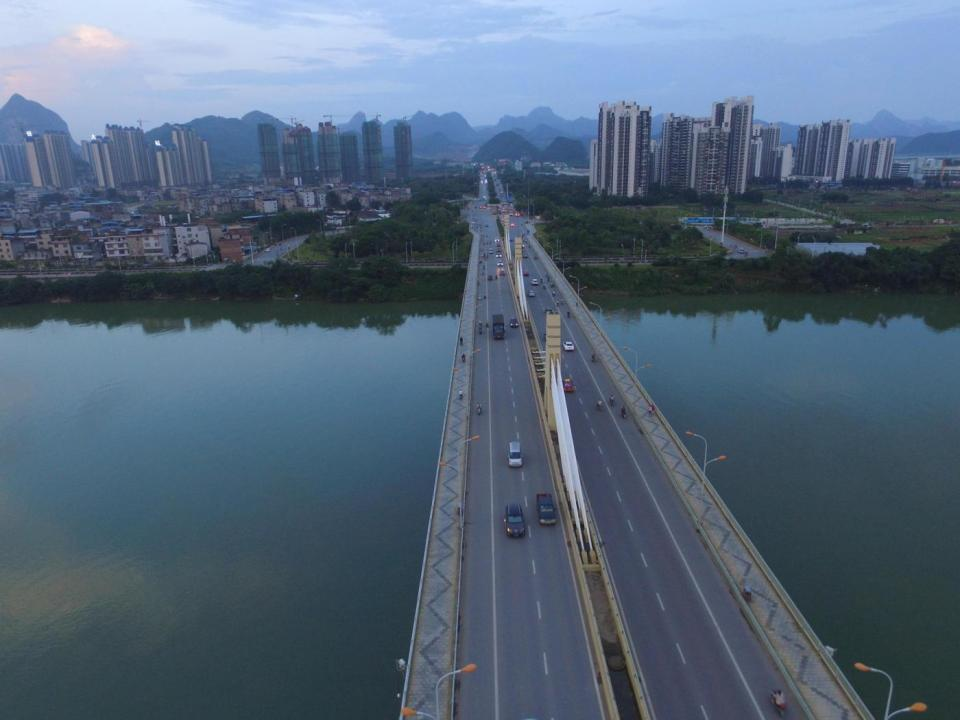car: (504, 503, 527, 539), (562, 379, 575, 392), (510, 316, 519, 329), (563, 341, 575, 350), (527, 290, 535, 297), (544, 308, 553, 313), (531, 278, 538, 284), (522, 270, 528, 276), (499, 270, 505, 276), (496, 260, 502, 266), (523, 252, 528, 258), (494, 237, 500, 242), (496, 253, 501, 258), (496, 247, 501, 252), (265, 248, 271, 252), (509, 237, 513, 242), (510, 223, 514, 226), (486, 224, 488, 228)
van: (536, 492, 557, 526), (507, 441, 524, 467), (492, 314, 505, 340), (738, 247, 744, 254), (489, 248, 493, 254), (496, 242, 500, 247)
